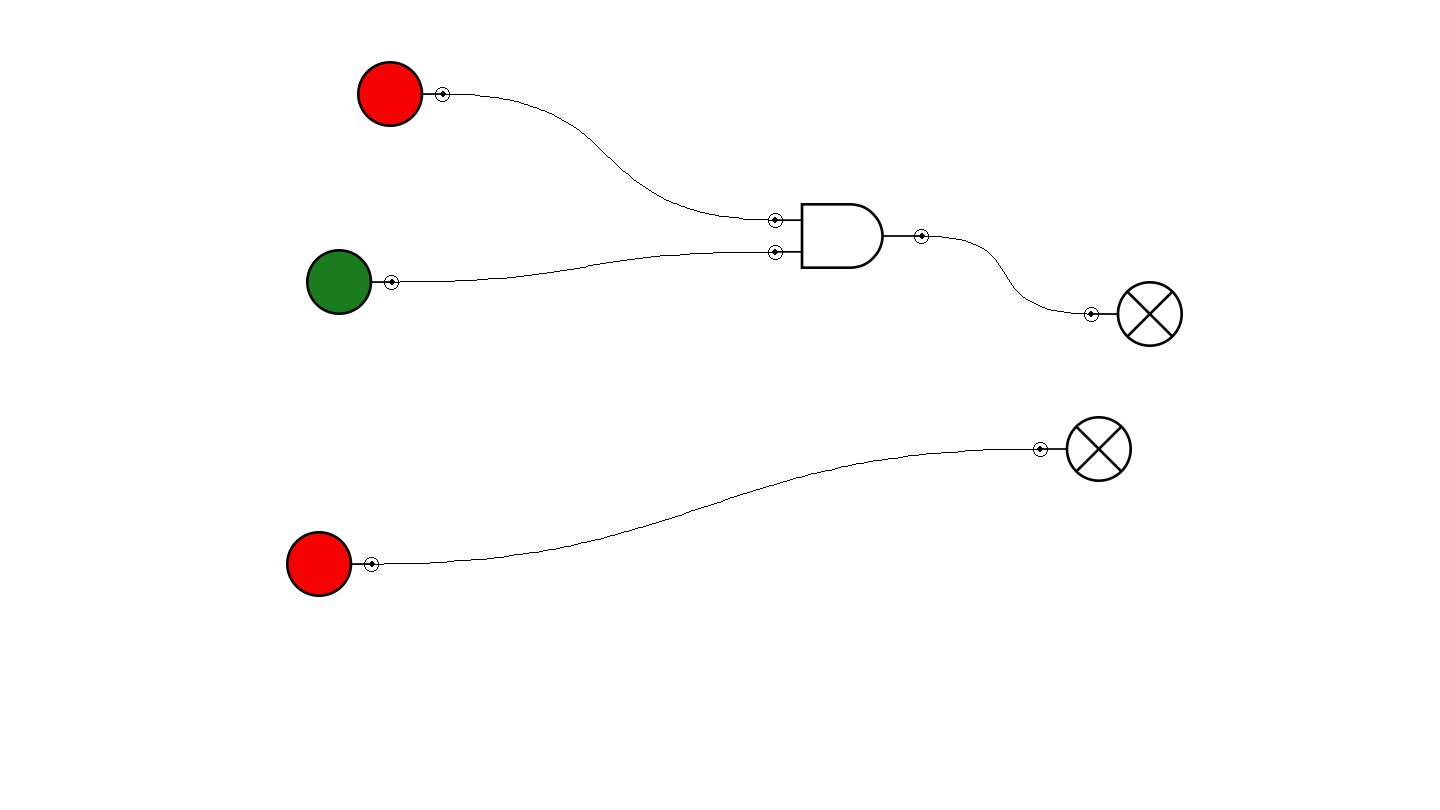and: (768, 203, 929, 269)
bulb: (1033, 416, 1132, 482), (1084, 281, 1183, 347)
switch_False: (286, 531, 379, 597), (357, 61, 450, 127)
switch_True: (306, 249, 399, 315)
